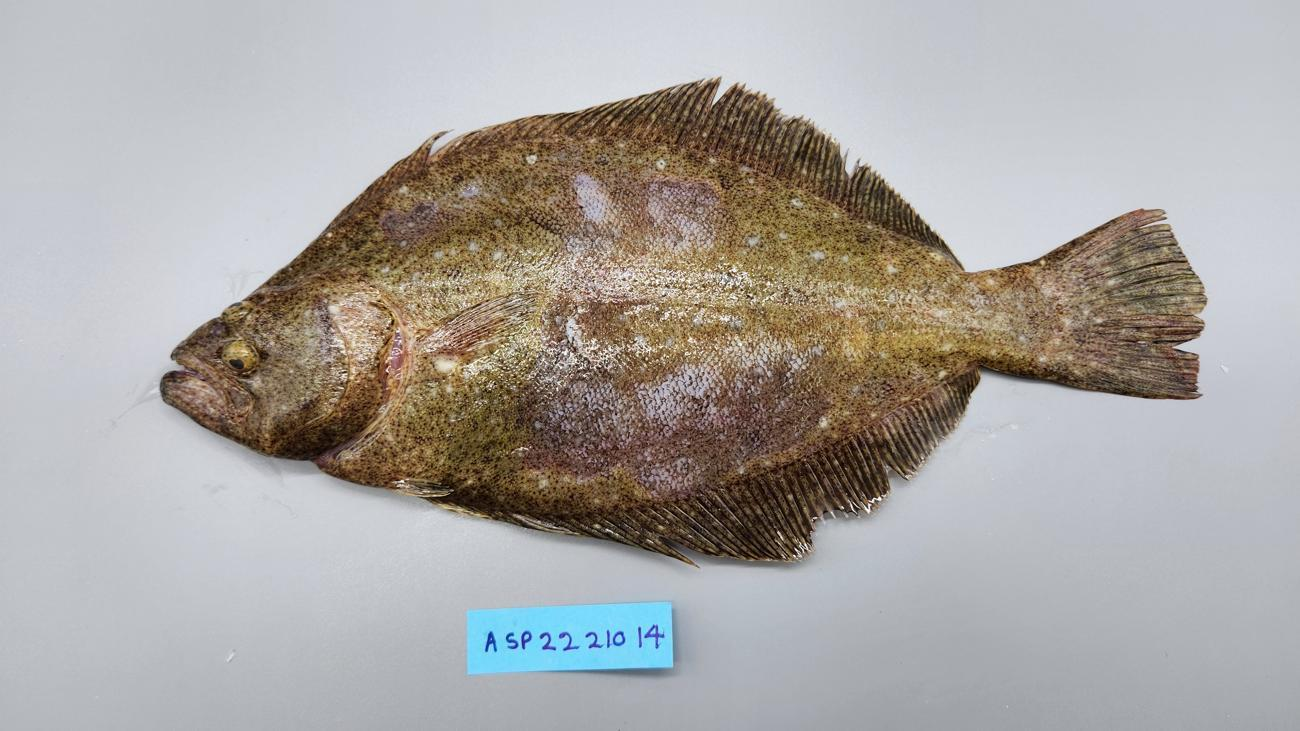SPDYH: (411, 293, 533, 362), (329, 438, 425, 486), (379, 203, 462, 242), (989, 264, 1038, 292)
SPFCH: (1059, 210, 1204, 398)
SPOUY: (151, 70, 1220, 576)
